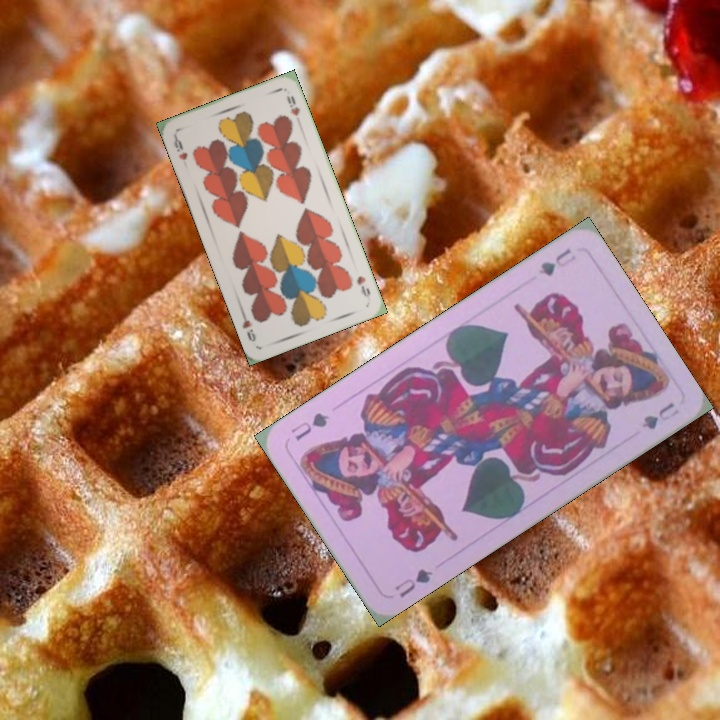GU: (391, 564, 435, 600), (534, 244, 579, 279)
H9: (170, 131, 190, 163), (353, 272, 373, 300)
